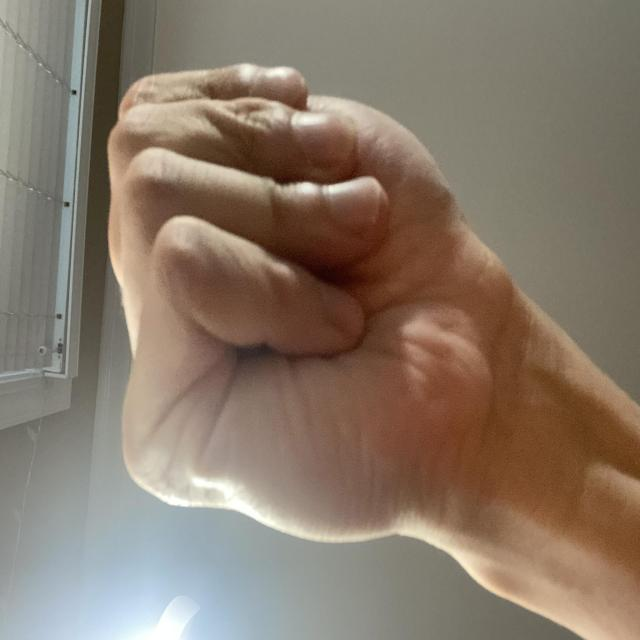M: (50, 133, 439, 640)
